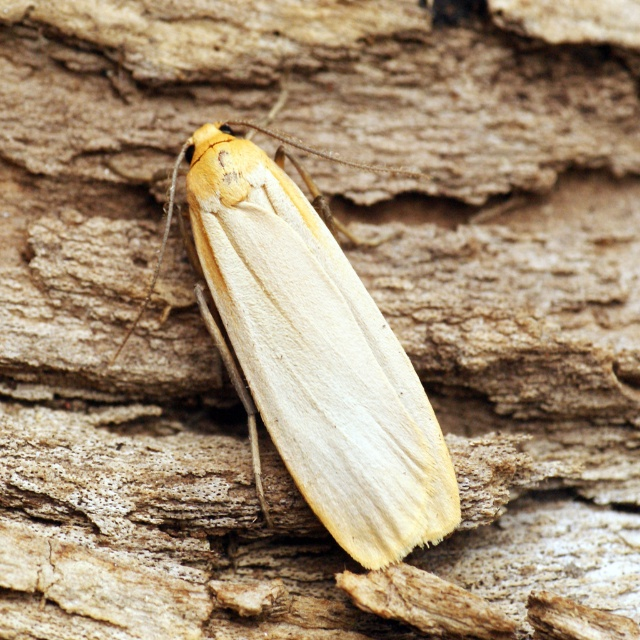Moths and butterflies: (101, 113, 462, 573)
